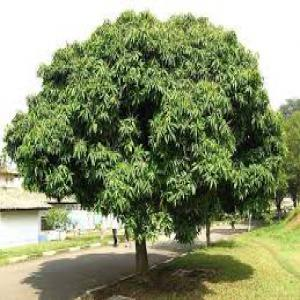Tree: (4, 6, 284, 269)
